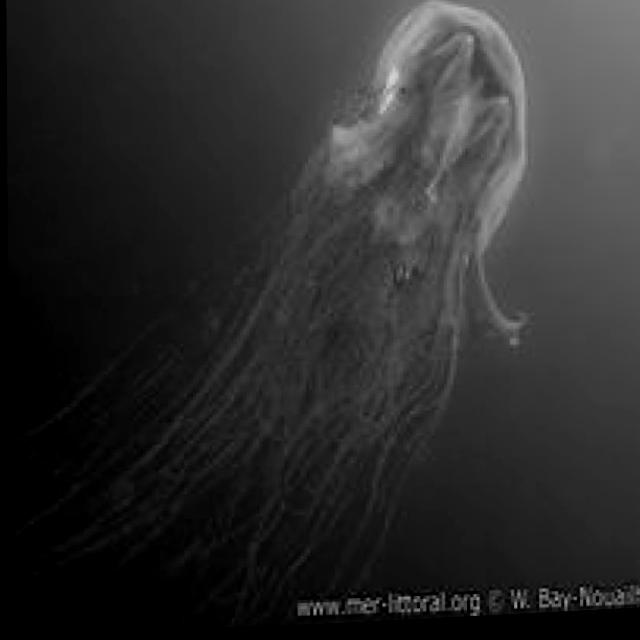Box-jellyfish: (0, 0, 543, 640)
